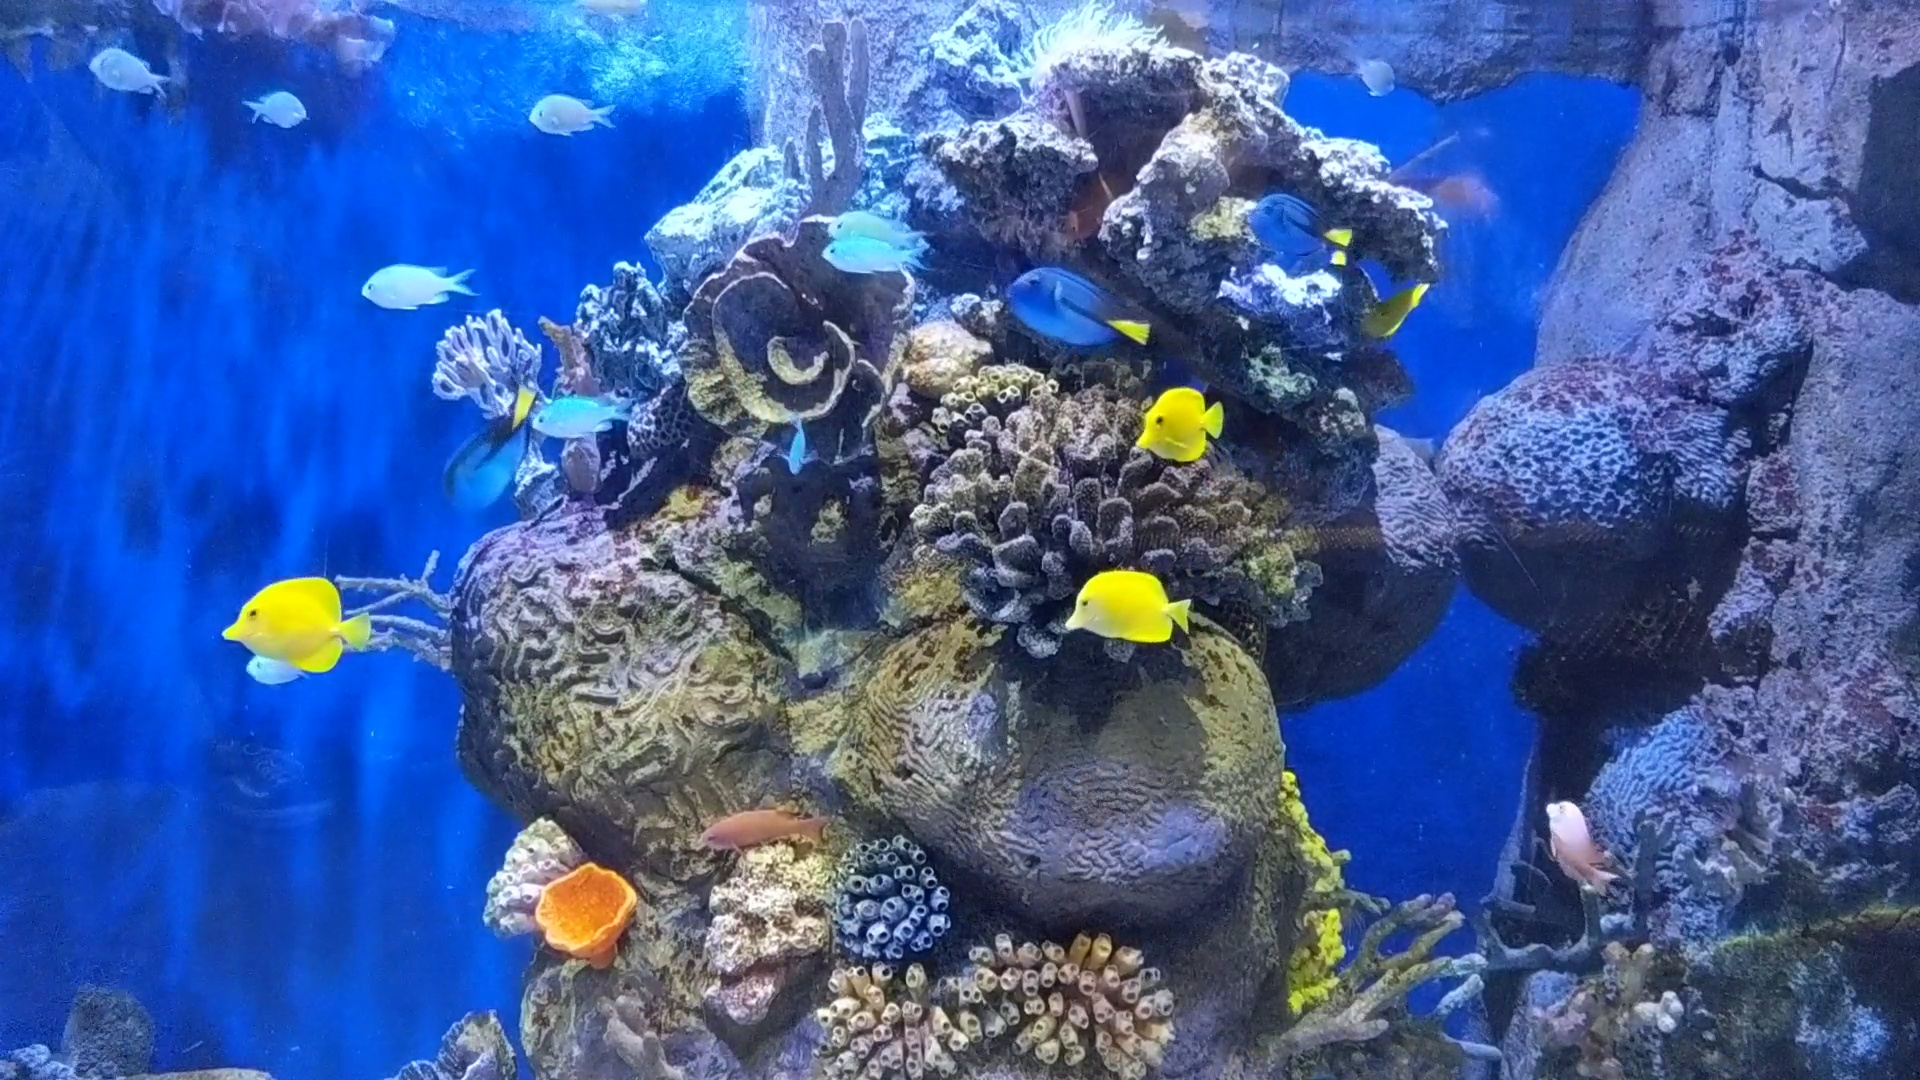blue tang surgeonfish: (957, 233, 1174, 375), (433, 378, 549, 522), (1232, 193, 1358, 294)
damselfish: (345, 245, 484, 336), (518, 380, 646, 450), (516, 80, 626, 145), (823, 231, 931, 287), (71, 45, 175, 103), (822, 199, 927, 253), (1342, 40, 1416, 115), (236, 76, 318, 137), (781, 411, 825, 483)
pink fish: (1534, 790, 1633, 903)
saddle butterfly fish: (204, 576, 378, 676), (1054, 564, 1199, 658), (1121, 376, 1234, 468)
